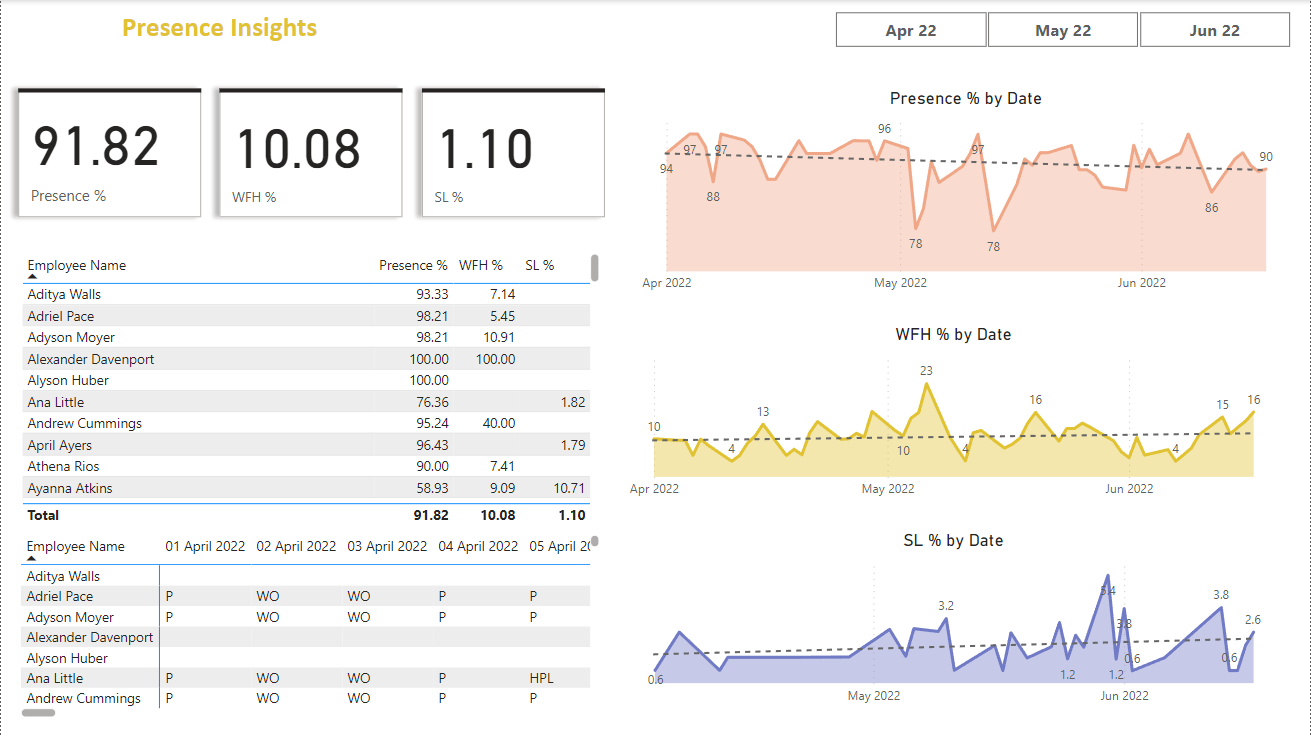

The dashboard page shown, as its layout file describes it:
{"tool":"powerbi","page":{"name":"HR","canvas":[1280,720],"ordinal":0},"visuals":[{"type":"slicer","fields":{"Values":["Calendar.Month Year"]},"box":[795.8,4.9,484.1,47.7],"z":0},{"type":"cardVisual","fields":{"Data":["Measure Table.Present %"]},"box":[0,69.7,213.9,160.1],"z":1000},{"type":"textbox","box":[0,4.9,427.8,42.8],"z":2000},{"type":"cardVisual","fields":{"Data":["Measure Table.WFH %"]},"box":[196.8,69.7,213.9,160.1],"z":3000},{"type":"cardVisual","fields":{"Data":["Measure Table.SL %"]},"box":[394.8,69.7,213.9,160.1],"z":4000},{"type":"tableEx","fields":{"Values":["Final Attendance Sheet.Employee Name","Measure Table.Presence %","Measure Table.WFH %","Measure Table.SL %"]},"box":[14.7,243.3,575.8,275],"z":5000},{"type":"pivotTable","fields":{"Rows":["Final Attendance Sheet.Employee Name"],"Columns":["Final Attendance Sheet.Date"],"Values":["Min(Final Attendance Sheet.Attendance)"]},"box":[14.7,518.3,575.8,188.3],"z":6000},{"type":"areaChart","fields":{"Category":["Final Attendance Sheet.Date"],"Y":["Measure Table.Presence %"]},"box":[621,85.6,645.4,209],"z":7000},{"type":"areaChart","fields":{"Category":["Final Attendance Sheet.Date"],"Y":["Measure Table.WFH %"]},"box":[608.8,316.6,645.4,180],"z":8000},{"type":"areaChart","fields":{"Category":["Final Attendance Sheet.Date"],"Y":["Measure Table.SL %"]},"box":[608.8,518.3,645.4,180],"z":9000}]}

Visuals, with their boxes in screenshot pixels (x1, y1, x2, y2), scaled from the page's 1280x720 canvas onto the 1311x736 screenshot:
slicer - Calendar.Month Year: box=[815, 5, 1310, 54]
cardVisual - Measure Table.Present %: box=[0, 71, 219, 235]
textbox: box=[0, 5, 438, 49]
cardVisual - Measure Table.WFH %: box=[202, 71, 421, 235]
cardVisual - Measure Table.SL %: box=[404, 71, 623, 235]
tableEx - Final Attendance Sheet.Employee Name x Measure Table.Presence %: box=[15, 249, 605, 530]
pivotTable - Final Attendance Sheet.Employee Name x Final Attendance Sheet.Date: box=[15, 530, 605, 722]
areaChart - Final Attendance Sheet.Date x Measure Table.Presence %: box=[636, 88, 1297, 301]
areaChart - Final Attendance Sheet.Date x Measure Table.WFH %: box=[624, 324, 1285, 508]
areaChart - Final Attendance Sheet.Date x Measure Table.SL %: box=[624, 530, 1285, 714]
